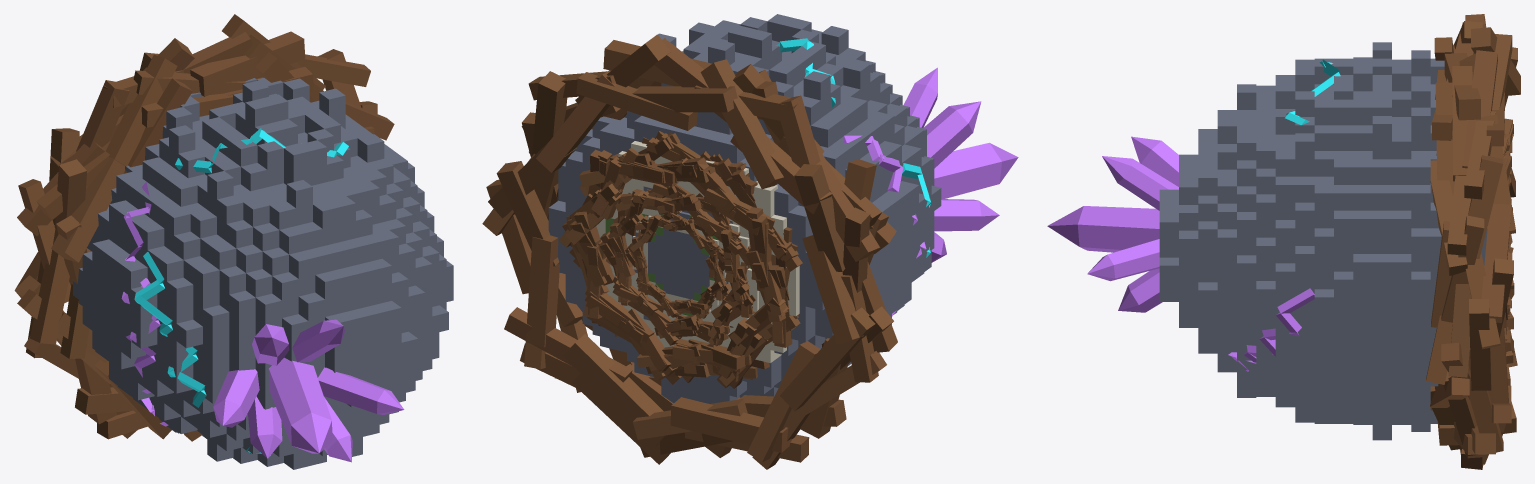
The model's file is Geodas_Zona1.fbx.
3 renders of one model, left to right at view 1: azimuth 30°, elevation 25°; view 2: azimuth 150°, elevation 25°; view 3: azimuth 270°, elevation 25°, orthographic. The views are drawn at different scales.
Visible parts, largest first — view 1: Roca.003, Base.003, Cristales.003, Grietas2.003, Grietas.003; view 2: Base.003, Roca.003, Cristales.003, Base.012, Base.015, Base.006, Base.002, Base.009, Roca.009, Base.011, Roca, Base.005 (+11 smaller); view 3: Roca.003, Base.003, Cristales.003, Grietas.003, Grietas2.003.
Part boxes in pixels (bbox=[...]): Roca.003: bbox=[73, 78, 453, 469]; Base.003: bbox=[14, 14, 394, 441]; Cristales.003: bbox=[213, 319, 404, 462]; Grietas2.003: bbox=[134, 128, 348, 455]; Grietas.003: bbox=[121, 181, 168, 426]; Base.003: bbox=[482, 34, 897, 469]; Roca.003: bbox=[548, 14, 941, 403]; Cristales.003: bbox=[903, 67, 1018, 262]; Base.012: bbox=[568, 137, 798, 375]; Base.015: bbox=[559, 132, 800, 384]; Base.006: bbox=[566, 131, 802, 388]; Base.002: bbox=[562, 133, 798, 386]; Base.009: bbox=[564, 133, 797, 388]; Roca.009: bbox=[596, 141, 799, 363]; Base.011: bbox=[599, 183, 752, 345]; Roca: bbox=[648, 228, 709, 299]; Base.005: bbox=[606, 191, 755, 346]; Roca.003: bbox=[1159, 42, 1487, 440]; Base.003: bbox=[1426, 14, 1520, 469]; Cristales.003: bbox=[1047, 136, 1178, 312]; Grietas.003: bbox=[1228, 288, 1314, 371]; Grietas2.003: bbox=[1285, 59, 1340, 125].
Size of the model in its own units: 4.31 by 4.44 by 4.56.
